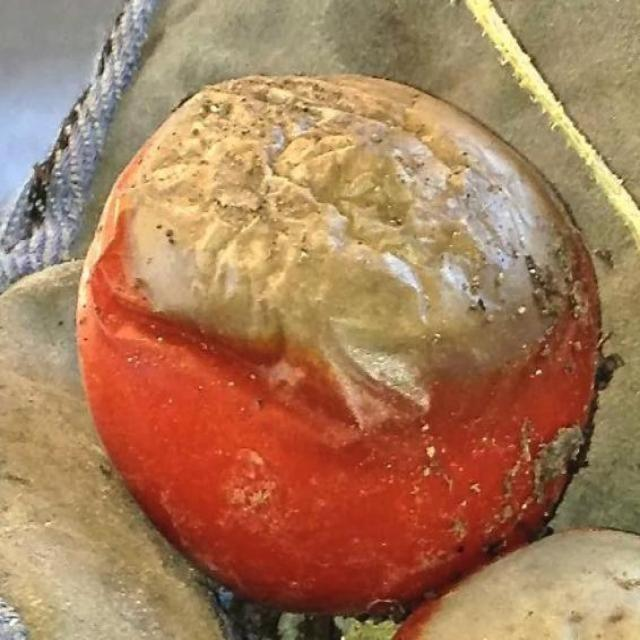Blossom End Rot Fruit: (76, 50, 386, 282)
